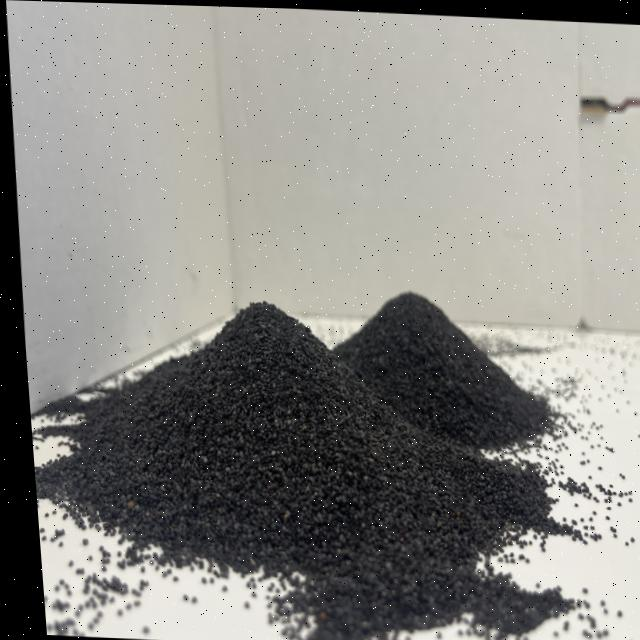Poppy Seeds: (44, 258, 634, 640)
